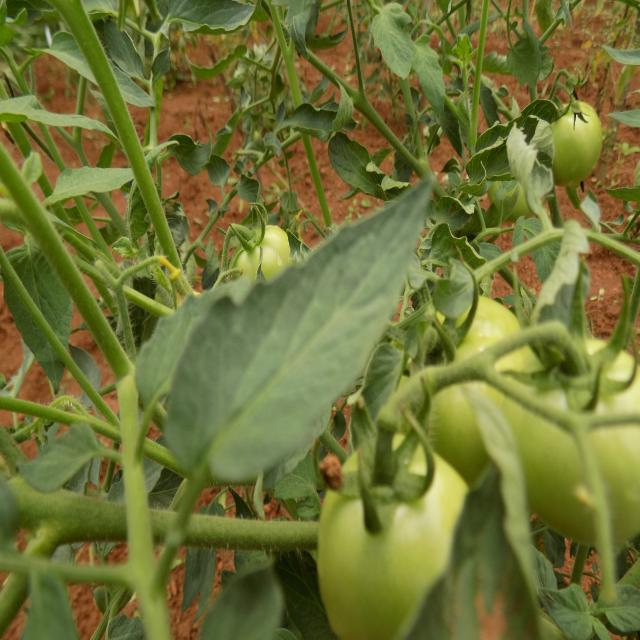tomato_healthy: (164, 181, 430, 483)
